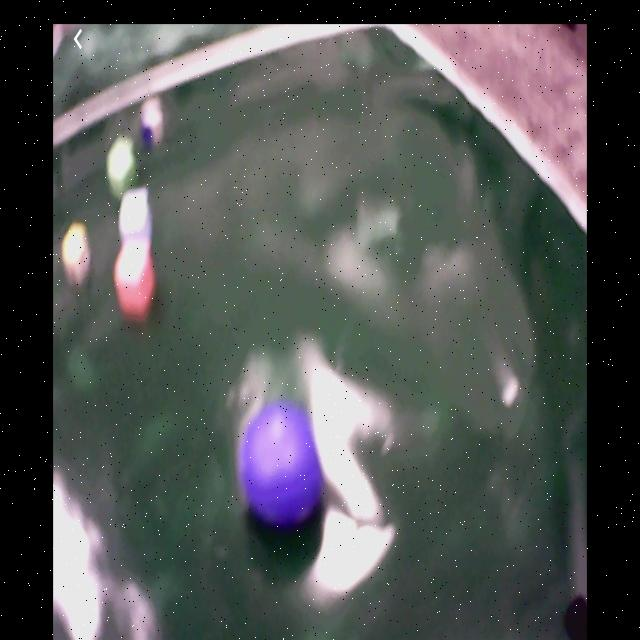ball: (244, 402, 324, 521)
